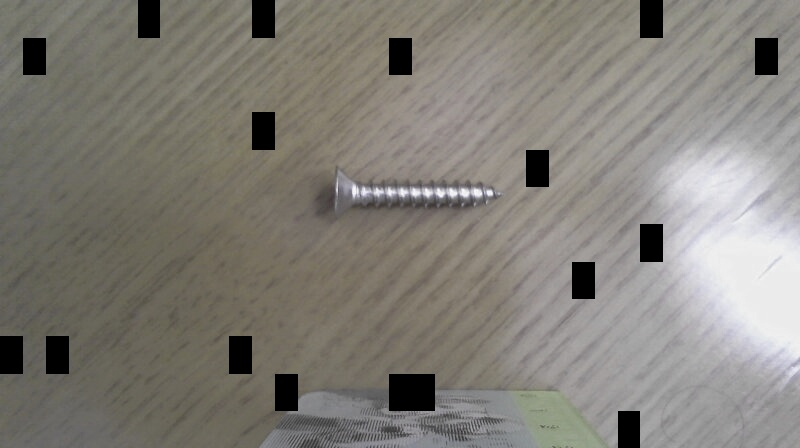S001: (326, 164, 509, 223)
